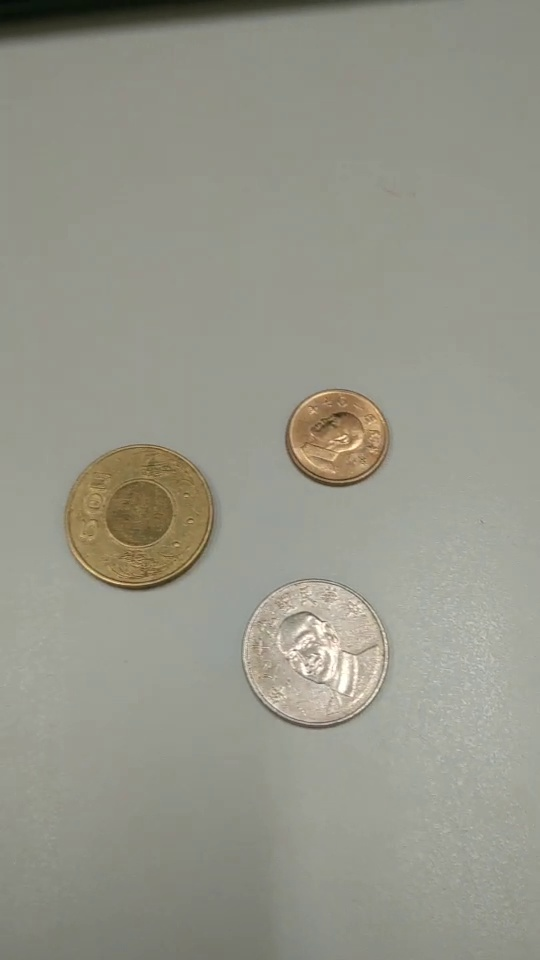NT$ 1: (286, 388, 391, 489)
NT$ 10: (240, 577, 391, 729)
NT$ 50: (67, 442, 216, 591)
